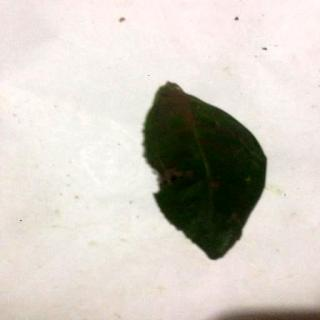Red Leaf Spot: (144, 83, 268, 260)
